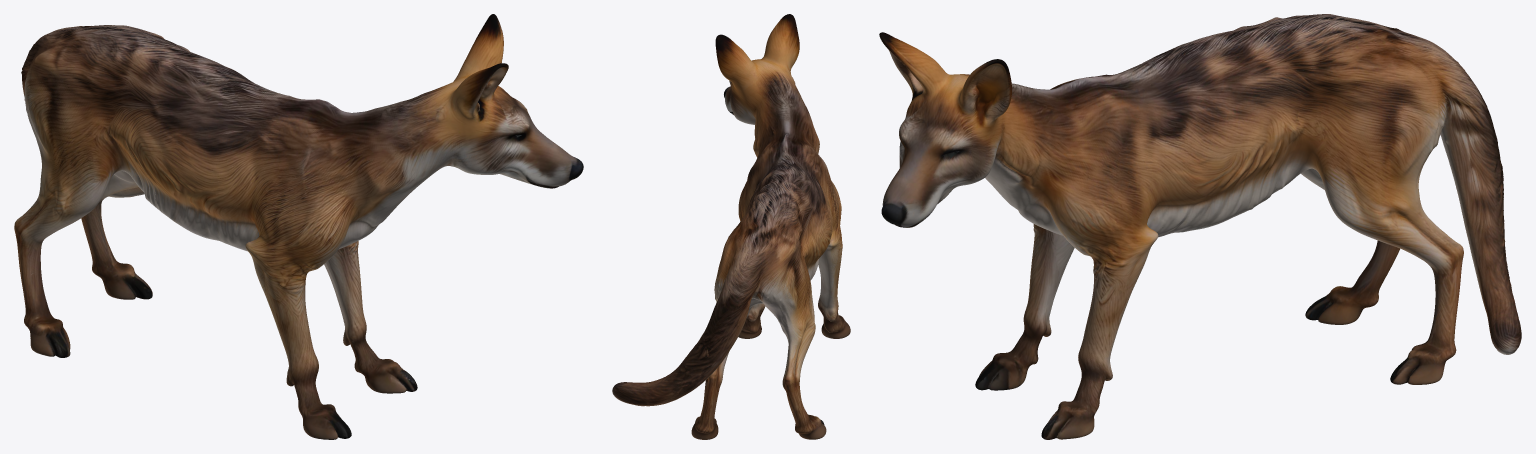
File: d1e98eeb-f471-41b7-adbb-53f0874ce06c_pbr.glb
3 renders of one model, left to right at view 1: azimuth 30°, elevation 25°; view 2: azimuth 150°, elevation 25°; view 3: azimuth 270°, elevation 25°, orthographic. The views are drawn at different scales.
Parts seen in each view (by area): view 1: tripo_node_d1e98eeb-f471-41b7-adbb-53f0874ce06c; view 2: tripo_node_d1e98eeb-f471-41b7-adbb-53f0874ce06c; view 3: tripo_node_d1e98eeb-f471-41b7-adbb-53f0874ce06c.
Boxes of the visible parts, left/top/right/bottom form: tripo_node_d1e98eeb-f471-41b7-adbb-53f0874ce06c: left=14, top=14, right=583, bottom=439; tripo_node_d1e98eeb-f471-41b7-adbb-53f0874ce06c: left=612, top=14, right=850, bottom=439; tripo_node_d1e98eeb-f471-41b7-adbb-53f0874ce06c: left=879, top=14, right=1521, bottom=439.
Bounding box in the file's own units: 0.6718 × 0.71 × 1.
1 material, 1 textured.
